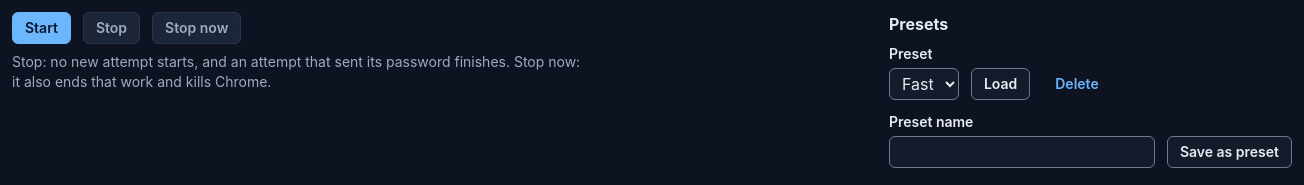
Scenario: RunControls › shows each message of a refused config
What coordinates should you click on to do the following:
click the button "Start"
I would click on:
 (41, 28)
Its box is [12, 12, 71, 44].
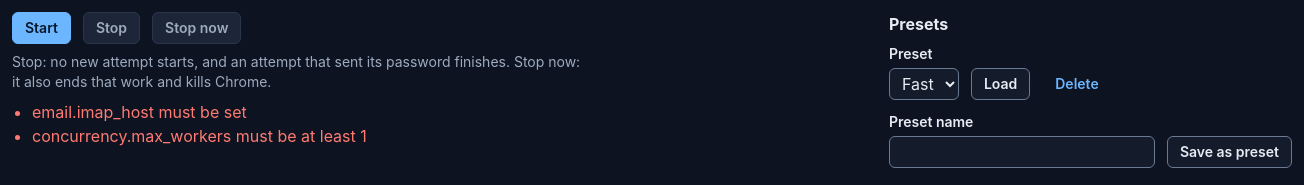
Now the message named "Request errors" is shown, box [32, 102, 367, 146]
